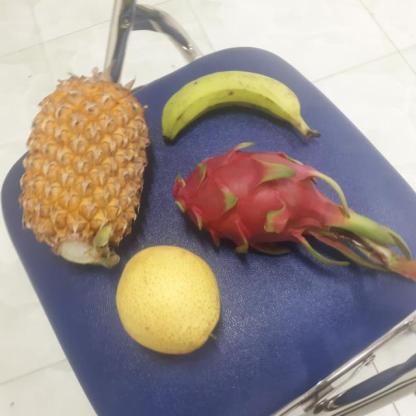banana: (156, 71, 303, 146)
pear: (111, 248, 221, 356)
pineapple: (22, 75, 146, 267)
pitaya: (162, 144, 342, 251)
